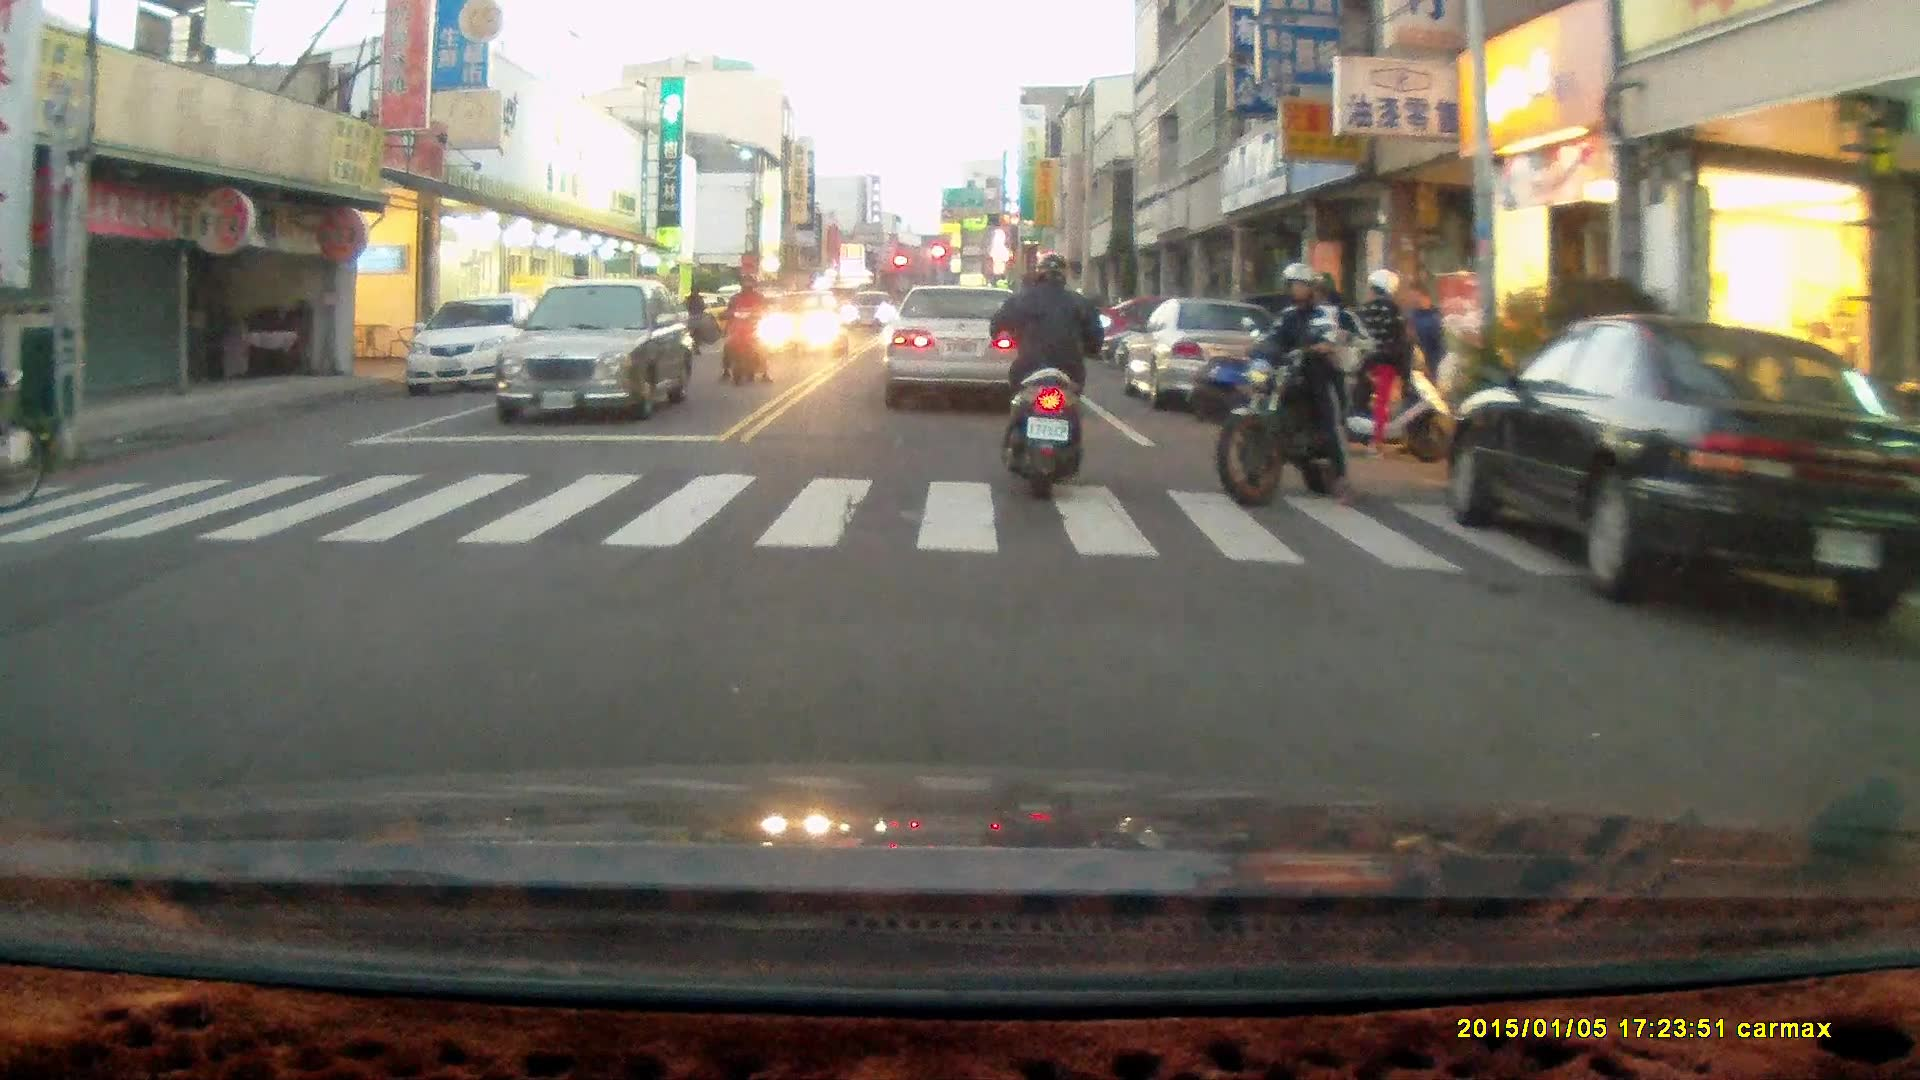pedestrian: (1357, 267, 1410, 447), (1399, 281, 1448, 429), (680, 279, 706, 352)
rider: (1213, 256, 1382, 504), (991, 246, 1109, 495), (717, 268, 772, 385)
vehicle: (1454, 316, 1920, 614), (496, 277, 698, 424), (1117, 297, 1293, 408), (880, 286, 1035, 412), (404, 290, 561, 400), (755, 288, 848, 362)
